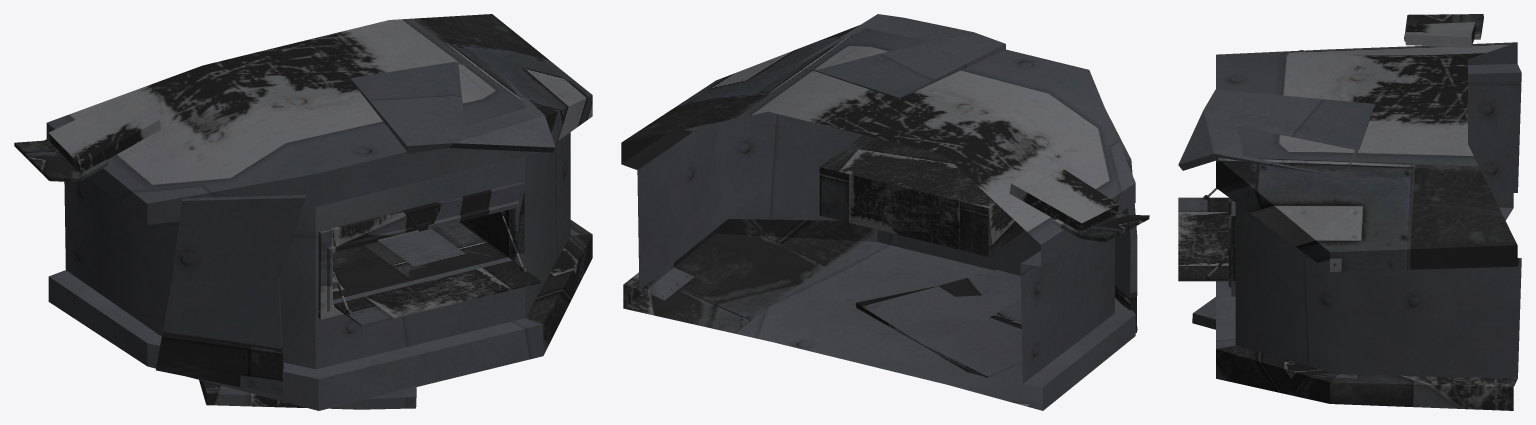
The model's file is HCD6.fbx.
3 renders of one model, left to right at view 1: azimuth 30°, elevation 25°; view 2: azimuth 150°, elevation 25°; view 3: azimuth 270°, elevation 25°, orthographic. The views are drawn at different scales.
Visible parts, largest first — view 1: sixD; view 2: sixD; view 3: sixD.
Part boxes in pixels (bbox=[...]): sixD: bbox=[14, 14, 592, 410]; sixD: bbox=[621, 14, 1149, 410]; sixD: bbox=[1178, 14, 1521, 410].
Bounding box in the file's own units: 6699 × 3273 × 4257.
Materials: 1 (1 with a texture image).
